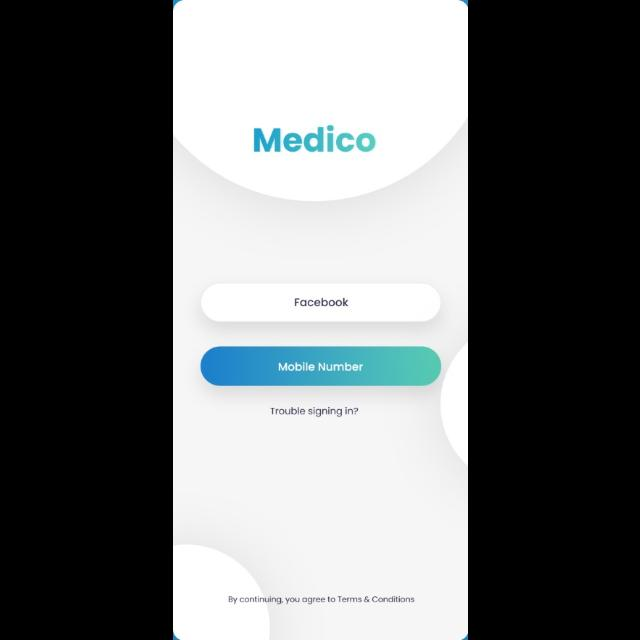text: (253, 125, 374, 154), (226, 595, 414, 605), (269, 407, 357, 418)
textbutton: (200, 346, 440, 386), (200, 284, 440, 322)
